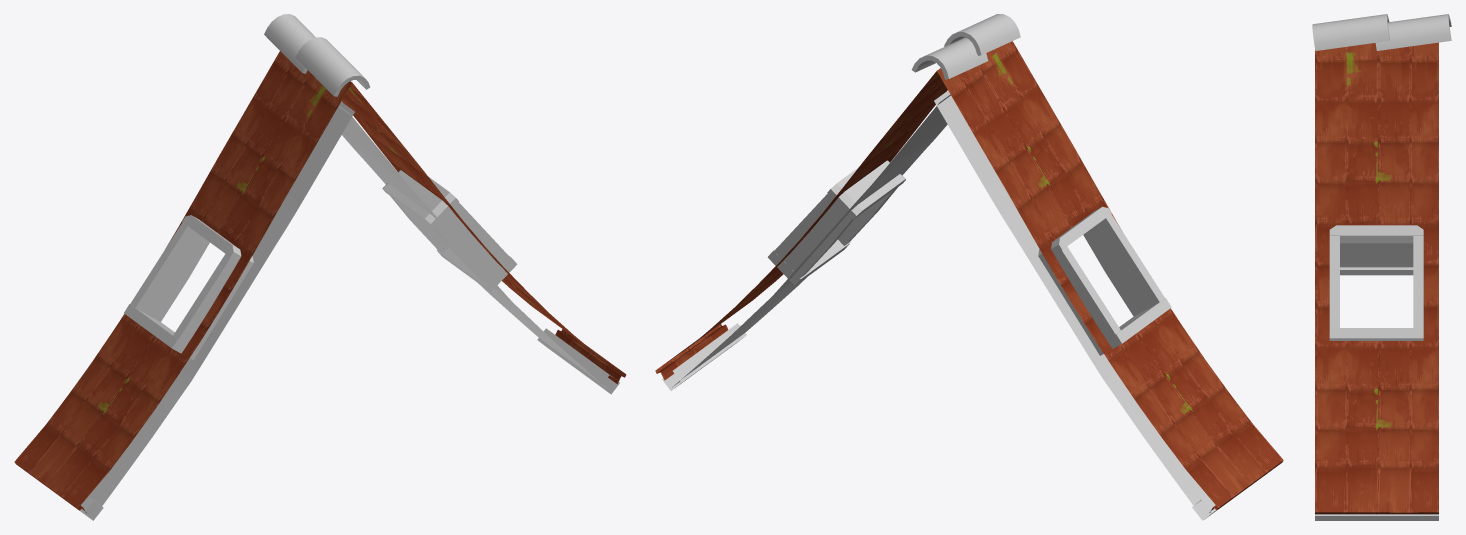
File: Roof_Modular_FlatTiles_8_Dormer.fbx
3 renders of one model, left to right at view 1: azimuth 30°, elevation 25°; view 2: azimuth 150°, elevation 25°; view 3: azimuth 270°, elevation 25°, orthographic. The views are drawn at different scales.
Parts seen in each view (by area): view 1: Roof_Modular_FlatTiles_8_Dormer; view 2: Roof_Modular_FlatTiles_8_Dormer; view 3: Roof_Modular_FlatTiles_8_Dormer.
Part boxes in pixels (x1,y1,x2,y2): Roof_Modular_FlatTiles_8_Dormer: [14, 14, 626, 520]; Roof_Modular_FlatTiles_8_Dormer: [655, 14, 1283, 520]; Roof_Modular_FlatTiles_8_Dormer: [1312, 14, 1451, 520].
Bounding box in the file's own units: 995 × 682 × 225.
